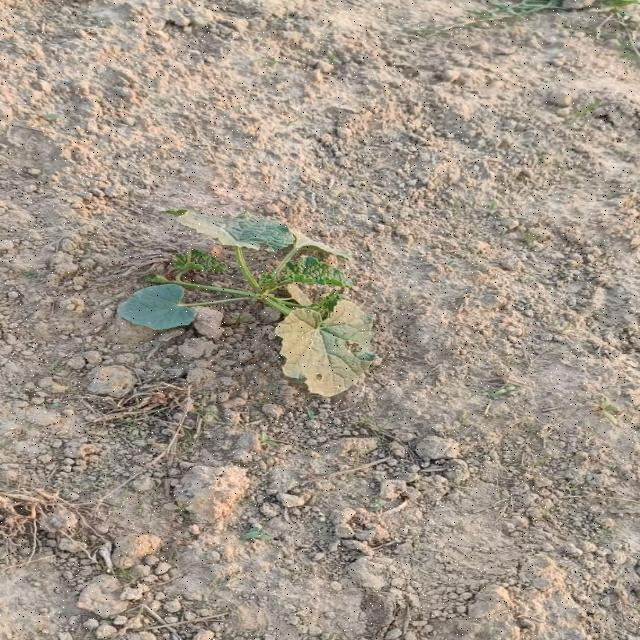plant: (116, 210, 376, 396)
